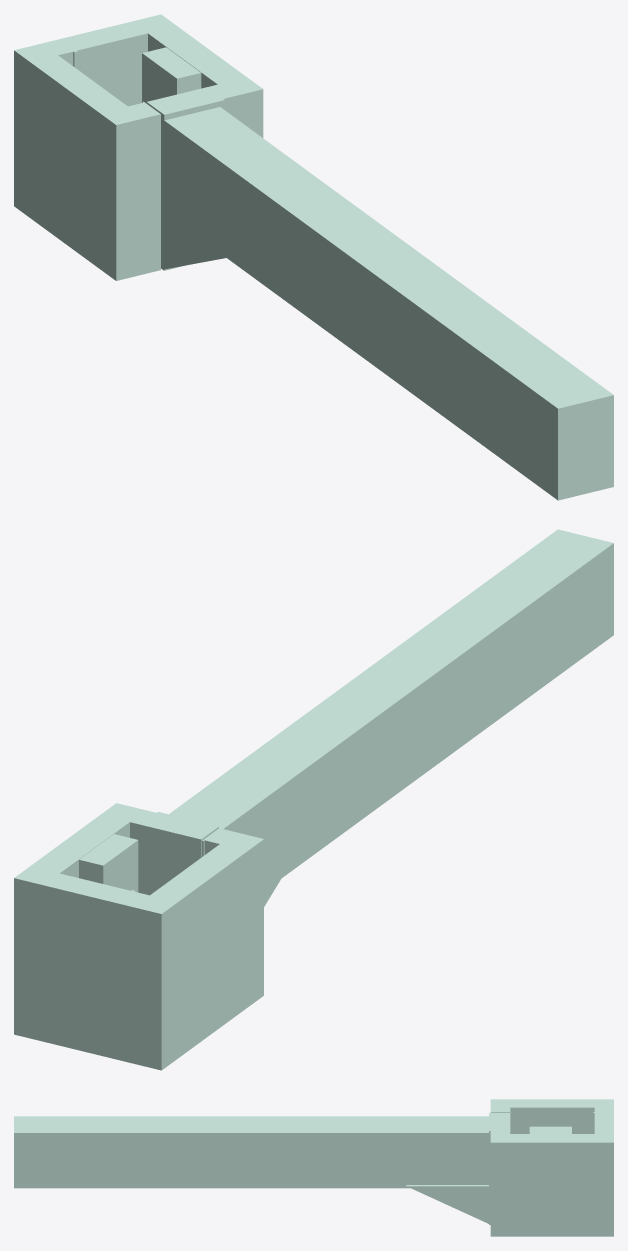
Rendered from orig.gltf.
3 views of the same model, one above another, from view 1: azimuth 30°, elevation 25°; view 2: azimuth 150°, elevation 25°; view 3: azimuth 270°, elevation 25° (orthographic). The views are drawn at different scales.
Visible parts, largest first — view 1: Renderer Node; view 2: Renderer Node; view 3: Renderer Node.
Part boxes in pixels (x1,y1,x2,y2): Renderer Node: [14, 14, 613, 500]; Renderer Node: [14, 529, 613, 1070]; Renderer Node: [14, 1099, 613, 1236].
Bounding box in the file's own units: 0.2469 × 0.25 × 1.45.
